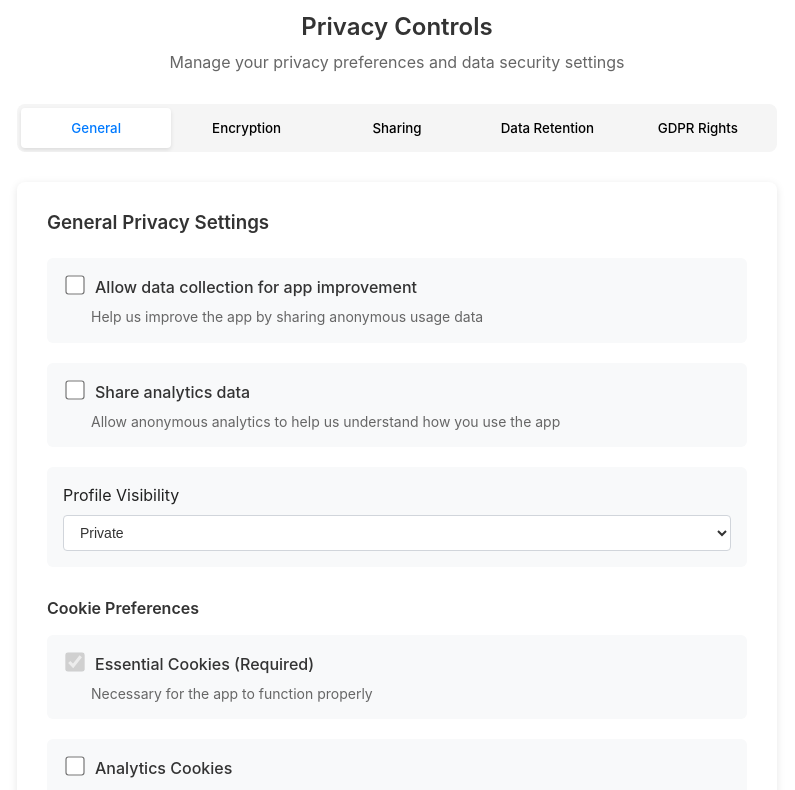
PrivacyControlsComponent › Sharing Tab › should show sharing controls
Click the button "Sharing": point(397, 128) [322,108,472,148]
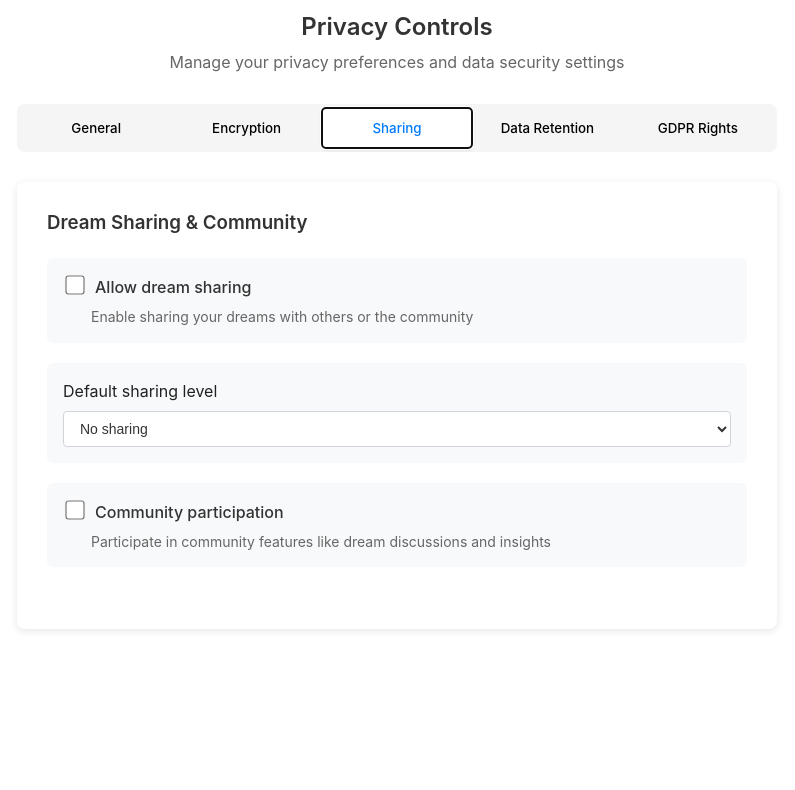
Check: the heading "Dream Sharing & Community" is shown, box [47,211,308,234]
Check: the text "Allow dream sharing" is shown, box [95,277,251,297]
Check: the text "Default sharing level" is shown, box [63,381,217,401]
